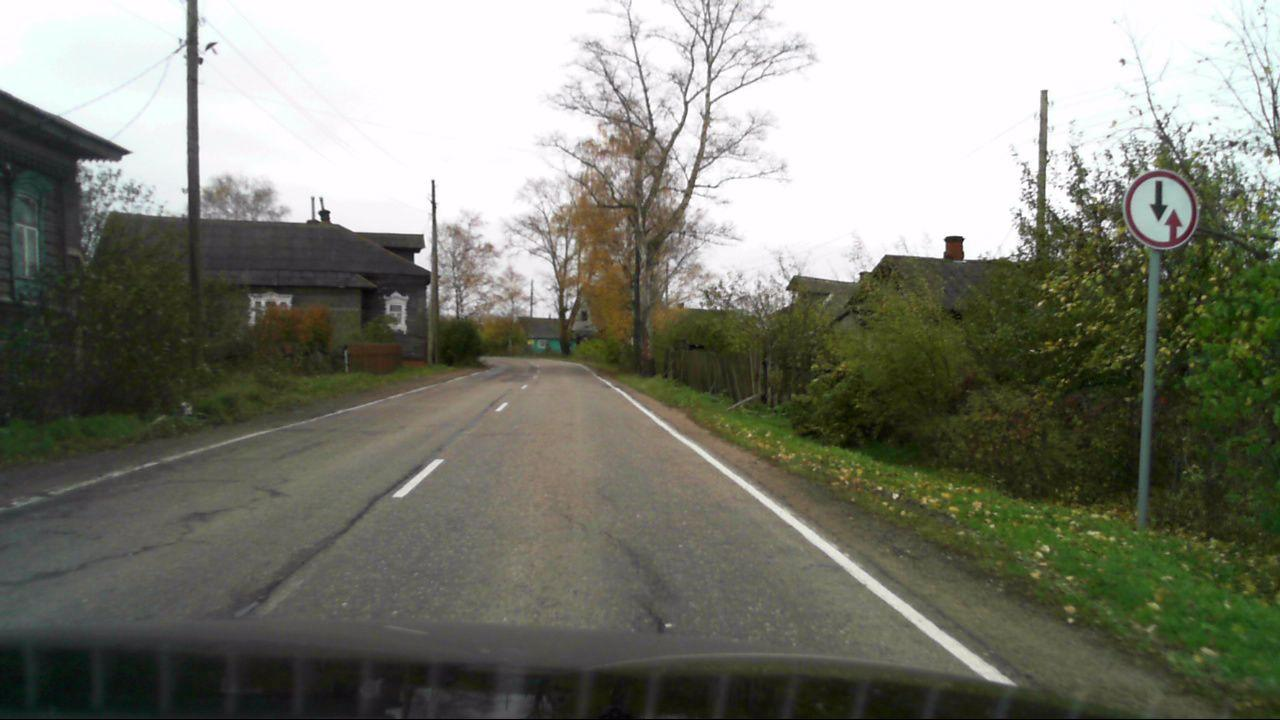2_6: (1120, 169, 1203, 250)
